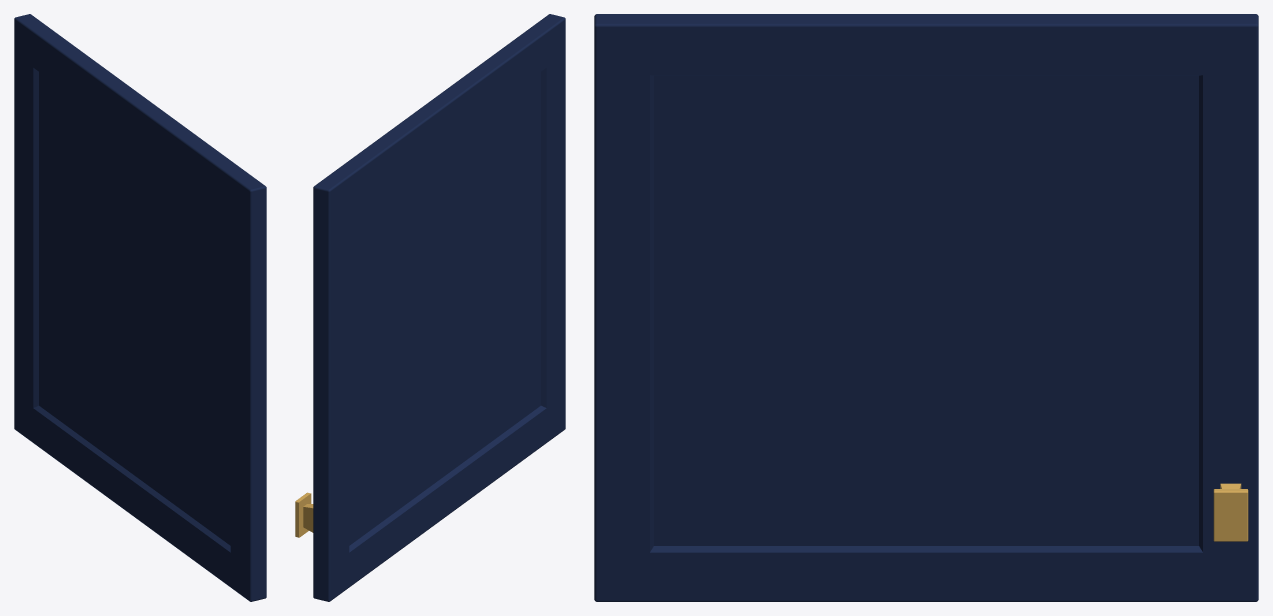
File: cabinet_door_left.glb
The picture shows the model from 3 angles, left to right: view 1: azimuth 30°, elevation 25°; view 2: azimuth 150°, elevation 25°; view 3: azimuth 270°, elevation 25°; orthographic projection. The views are drawn at different scales.
Bounding box in the file's own units: 0.045 × 0.46 × 0.479.
